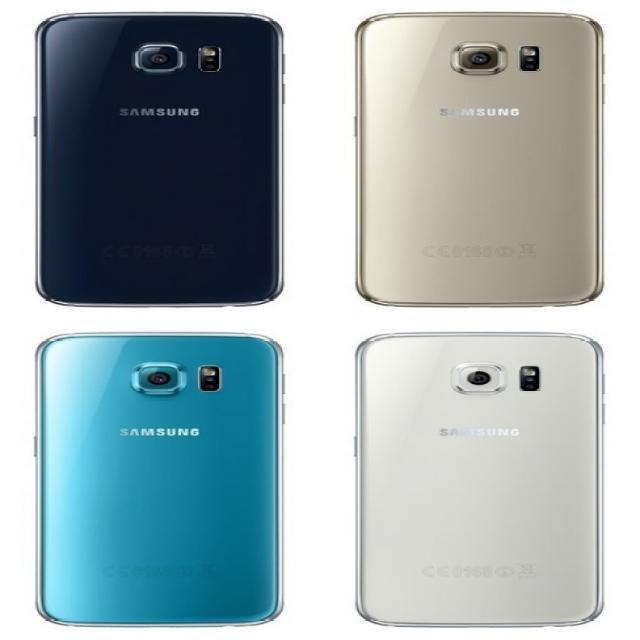phone: (346, 9, 608, 311), (31, 328, 290, 630), (351, 329, 608, 631), (32, 11, 290, 310)
